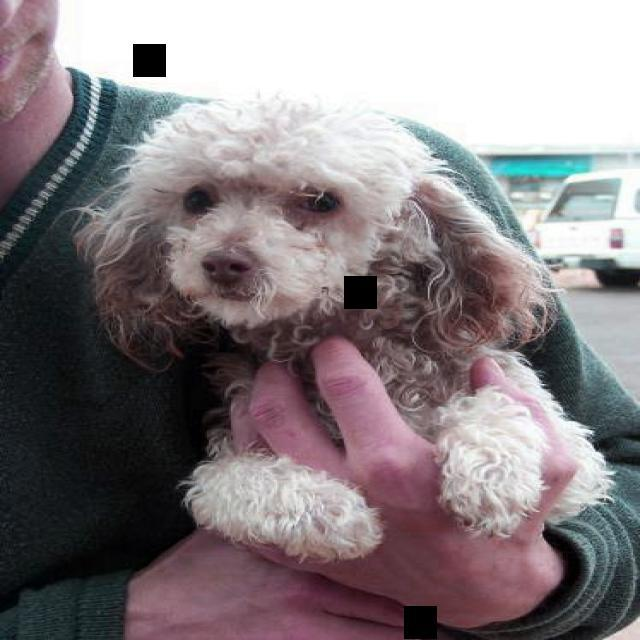adult_dog: (80, 86, 615, 567)
